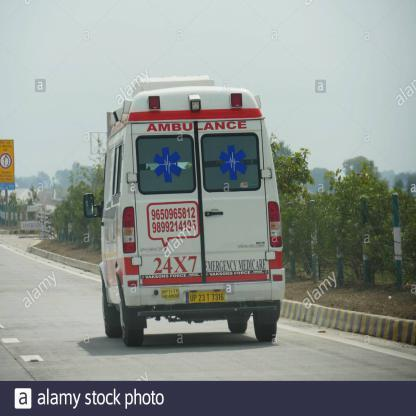Ambulance: (143, 119, 249, 134), (152, 145, 183, 184), (218, 143, 249, 181)
